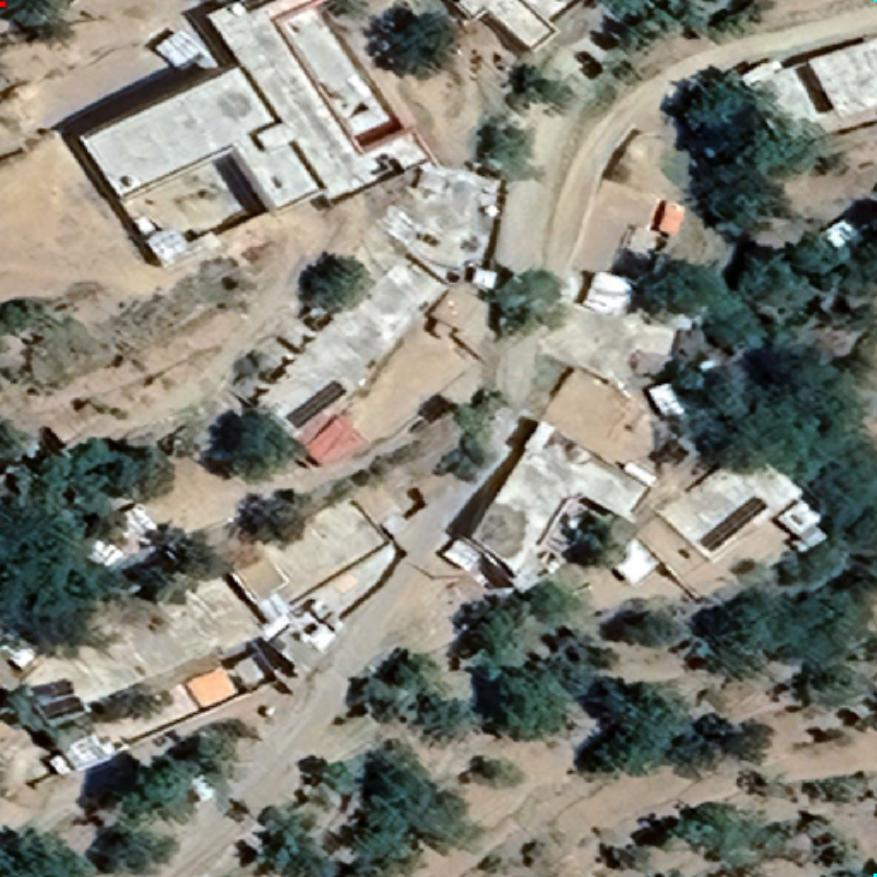Solarpanel: (695, 488, 773, 553), (280, 376, 351, 432)
